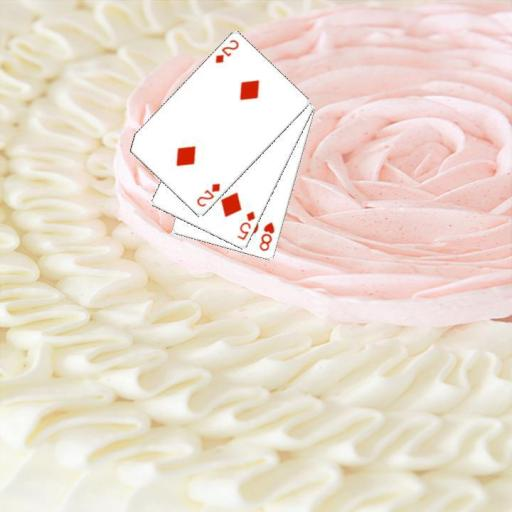2D: (212, 37, 240, 65), (193, 181, 222, 208)
5D: (234, 208, 257, 242)
8H: (256, 219, 276, 253)
